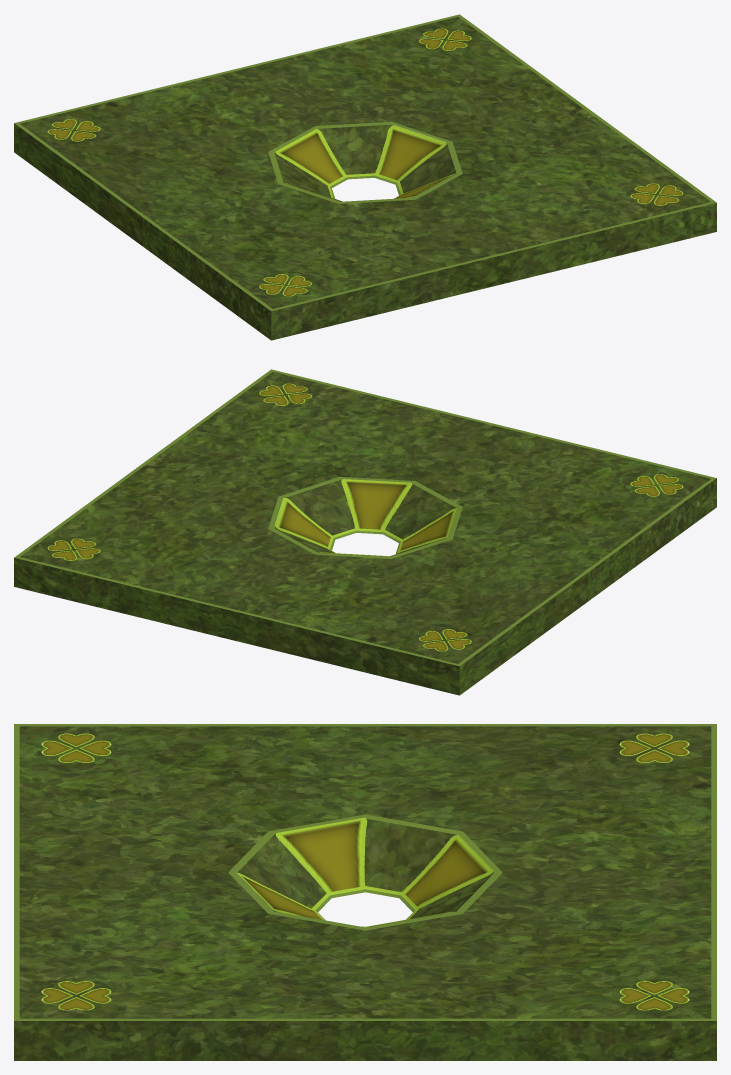
File: mountain_hole.gltf
3 views of the same model, one above another, from view 1: azimuth 30°, elevation 25°; view 2: azimuth 150°, elevation 25°; view 3: azimuth 270°, elevation 25° (orthographic). The views are drawn at different scales.
Visible parts, largest first — view 1: mountain_hole_glb; view 2: mountain_hole_glb; view 3: mountain_hole_glb.
Boxes of the visible parts, x1,y1,x2,y2 form: mountain_hole_glb: (14,14,716,340); mountain_hole_glb: (14,369,716,695); mountain_hole_glb: (14,724,716,1060).
Size of what is drawn, in the model's own units: 4 by 0.2531 by 4.
Materials: 2 (2 with a texture image).
